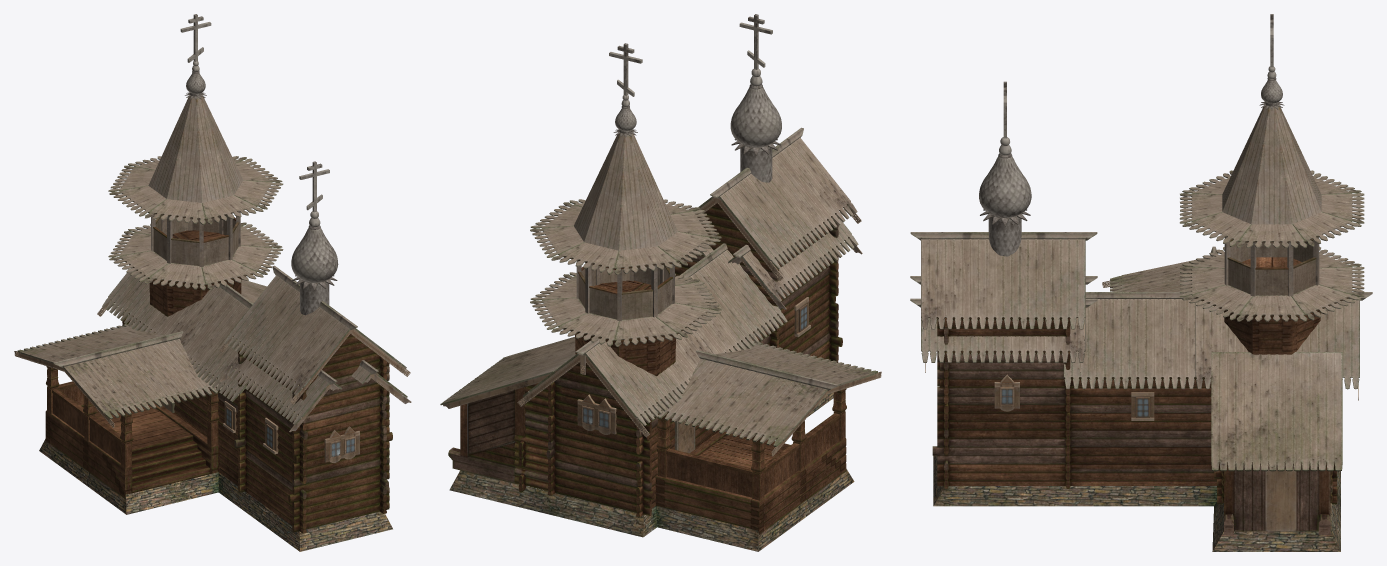
The model's file is karelian_orthodox_chapel.glb.
3 renders of one model, left to right at view 1: azimuth 30°, elevation 25°; view 2: azimuth 150°, elevation 25°; view 3: azimuth 270°, elevation 25°, orthographic. The views are drawn at different scales.
Visible parts, largest first — view 1: Object_6, Object_20, Object_5, Object_19, Object_9, Object_12, Object_7, Object_2, Object_11, Object_18, Object_24, Object_10 (+4 smaller); view 2: Object_6, Object_9, Object_20, Object_2, Object_5, Object_19, Object_11, Object_12, Object_7, Object_18, Object_10, Object_24 (+3 smaller); view 3: Object_6, Object_10, Object_20, Object_2, Object_5, Object_17, Object_12, Object_19, Object_11, Object_9, Object_24, Object_21 (+3 smaller).
Boxes of the visible parts, x1,y1,x2,y2 form: Object_6: (111,15,392,533); Object_20: (102,73,405,394); Object_5: (39,230,392,551); Object_19: (18,323,222,418); Object_9: (45,249,408,497); Object_12: (109,156,282,395); Object_7: (16,16,408,490); Object_2: (52,14,378,462); Object_11: (20,61,282,413); Object_18: (183,292,407,428); Object_24: (223,352,406,424); Object_10: (17,65,320,418); Object_6: (443,15,846,516); Object_9: (448,196,862,534); Object_20: (586,108,857,425); Object_2: (450,14,840,497); Object_5: (449,280,854,551); Object_19: (524,340,877,445); Object_11: (530,95,874,440); Object_12: (530,199,779,352); Object_7: (440,16,879,501); Object_18: (669,238,857,354); Object_10: (441,69,877,446); Object_24: (699,218,858,301); Object_6: (910,15,1348,485); Object_10: (998,71,1364,470); Object_20: (921,80,1282,328); Object_2: (910,14,1372,534); Object_5: (933,257,1340,551); Object_17: (924,281,1358,399); Object_12: (1179,193,1361,320); Object_19: (1110,258,1359,388); Object_11: (1064,66,1364,389); Object_9: (921,240,1361,521); Object_24: (921,318,1085,362); Object_21: (924,156,1358,400).
Size of the model in its own units: 10.55 by 13.69 by 12.31.
1 material, 1 textured.
